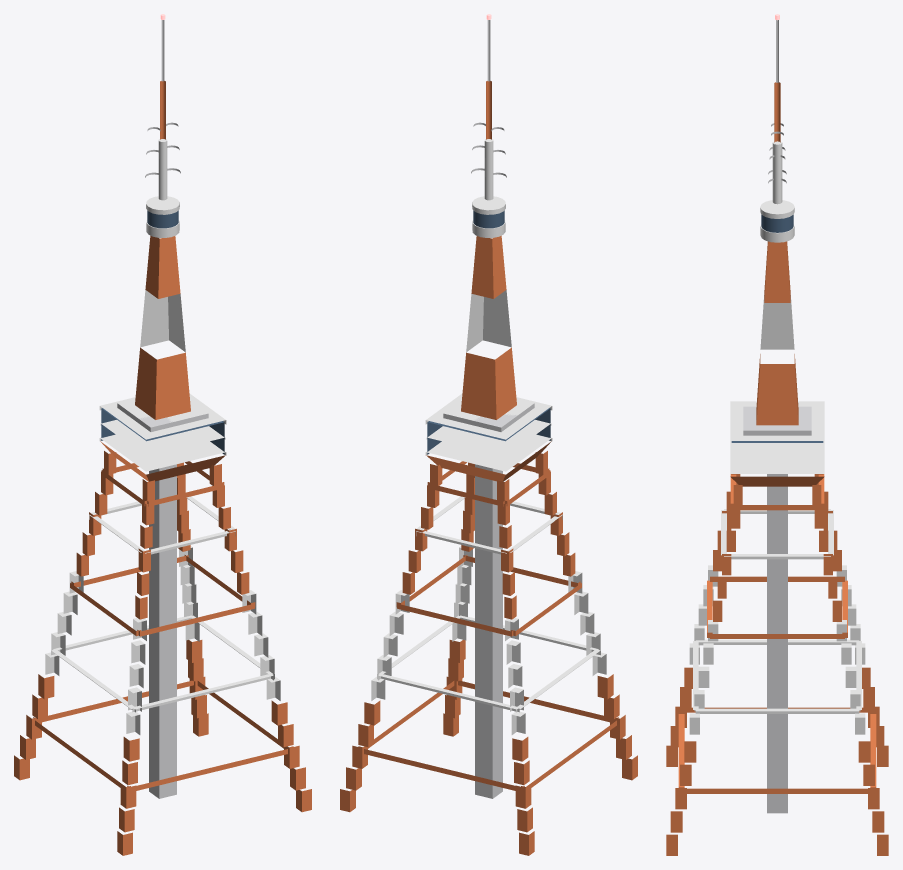
Rendered from tokyo_tower.glb.
3 views of the same model, side by side, from view 1: azimuth 30°, elevation 25°; view 2: azimuth 150°, elevation 25°; view 3: azimuth 270°, elevation 25° (orthographic). The views are drawn at different scales.
Visible parts, largest first — view 1: Root; view 2: Root; view 3: Root.
Boxes of the visible parts, <box> form: Root: <box>14,14,311,855</box>; Root: <box>340,14,637,855</box>; Root: <box>666,14,888,855</box>.
Bounding box in the file's own units: 84.77 × 334 × 84.77.
